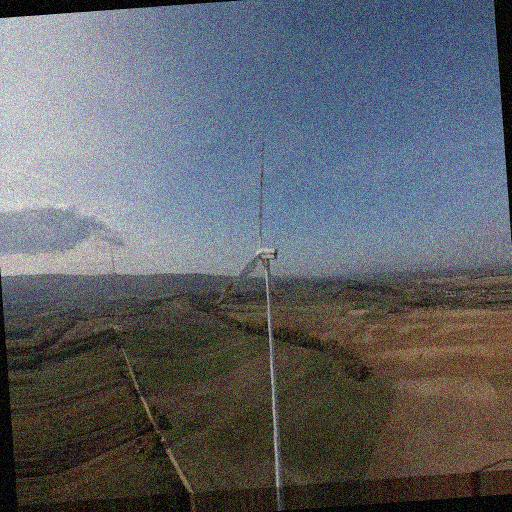wind turbine: (209, 143, 282, 483)
